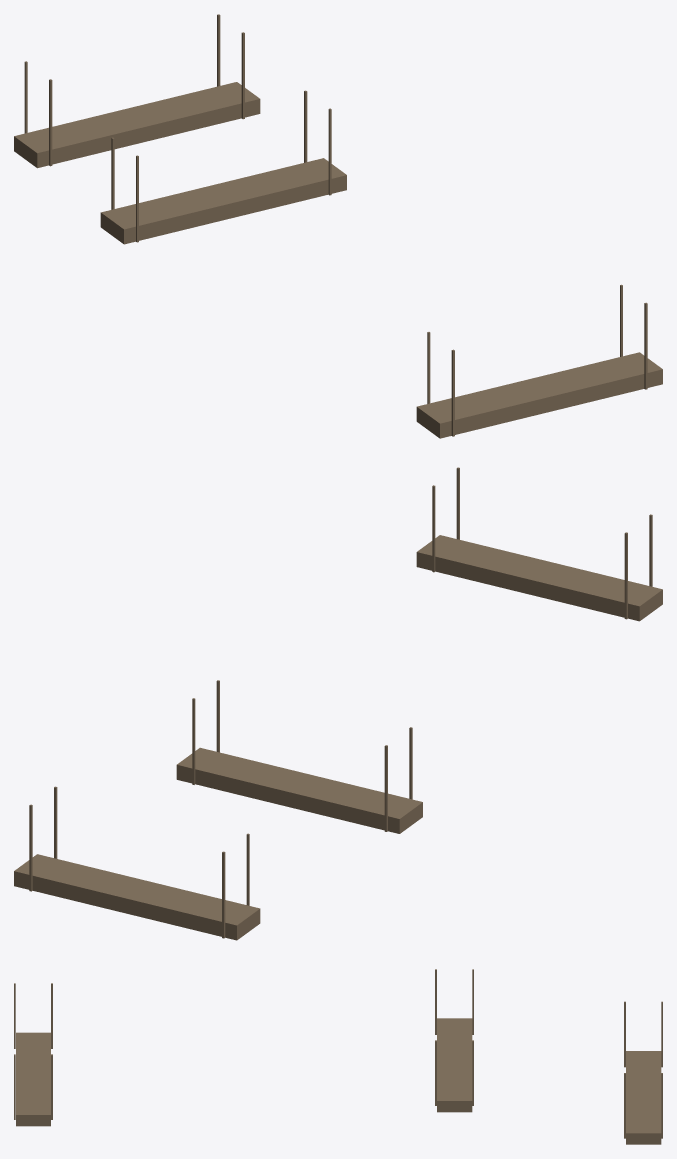
The model's file is light.fbx.
The picture shows the model from 3 angles, top to bottom: view 1: azimuth 30°, elevation 25°; view 2: azimuth 150°, elevation 25°; view 3: azimuth 270°, elevation 25°; orthographic projection. The views are drawn at different scales.
Visible parts, largest first — view 1: Object008, Object009, Object030, Box120, Box094, Box097; view 2: Object008, Object009, Object030, Box094, Box120, Box097; view 3: Object009, Object030, Object008, Box120, Box094, Box097.
Part boxes in pixels (x1,y1,x2,y2): Object008: (416, 352, 662, 438); Object009: (100, 158, 346, 244); Object030: (14, 82, 260, 168); Box120: (24, 14, 244, 166); Box094: (427, 284, 647, 436); Box097: (111, 90, 331, 242); Object008: (416, 535, 662, 621); Object009: (176, 747, 422, 833); Object030: (14, 854, 260, 940); Box094: (432, 467, 652, 619); Box120: (29, 786, 249, 938); Box097: (192, 680, 412, 831); Object009: (437, 1018, 472, 1112); Object030: (626, 1051, 661, 1144); Object008: (16, 1032, 50, 1126); Box120: (624, 1001, 662, 1138); Box094: (14, 983, 52, 1119); Box097: (435, 969, 473, 1105).
Bounding box in the file's own units: 12.07 × 4.87 × 34.32.
